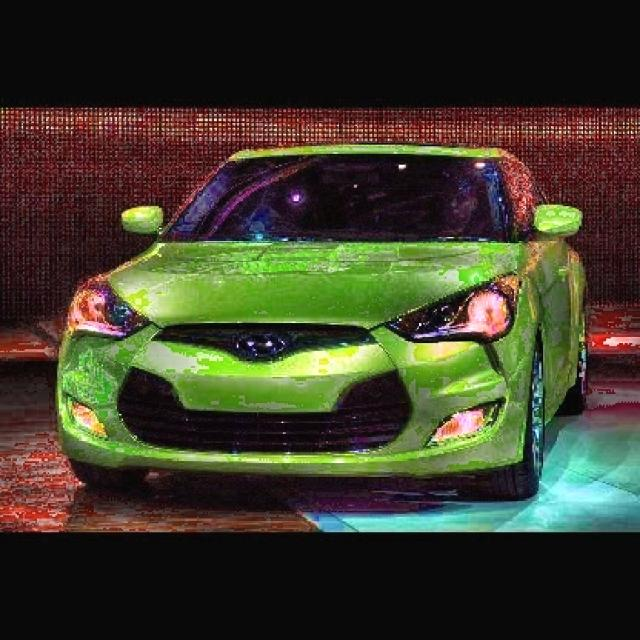green: (0, 134, 605, 472)
